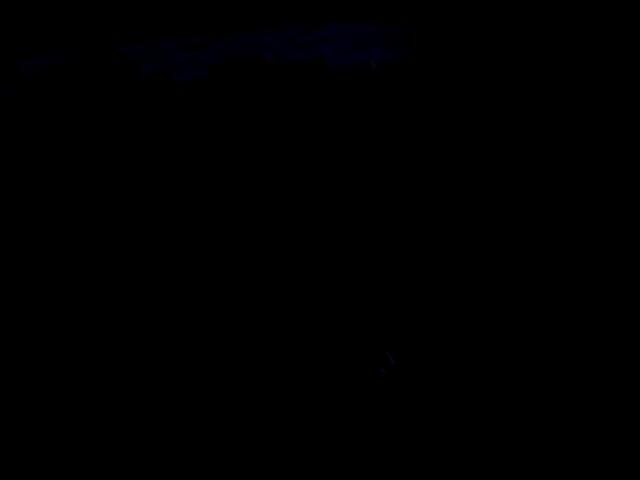iha: (315, 304, 451, 401)
